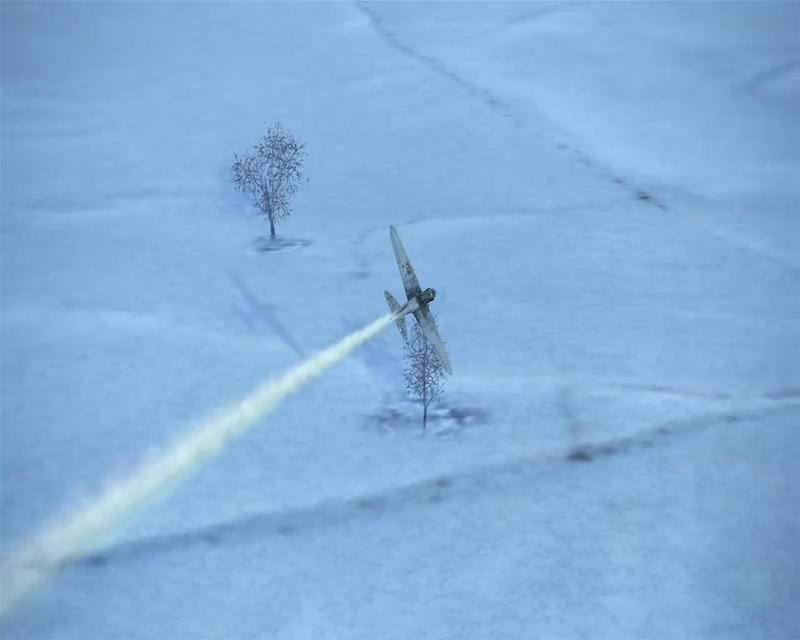UAV: (382, 224, 453, 376)
